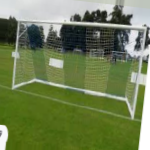goals: (12, 18, 148, 123)
